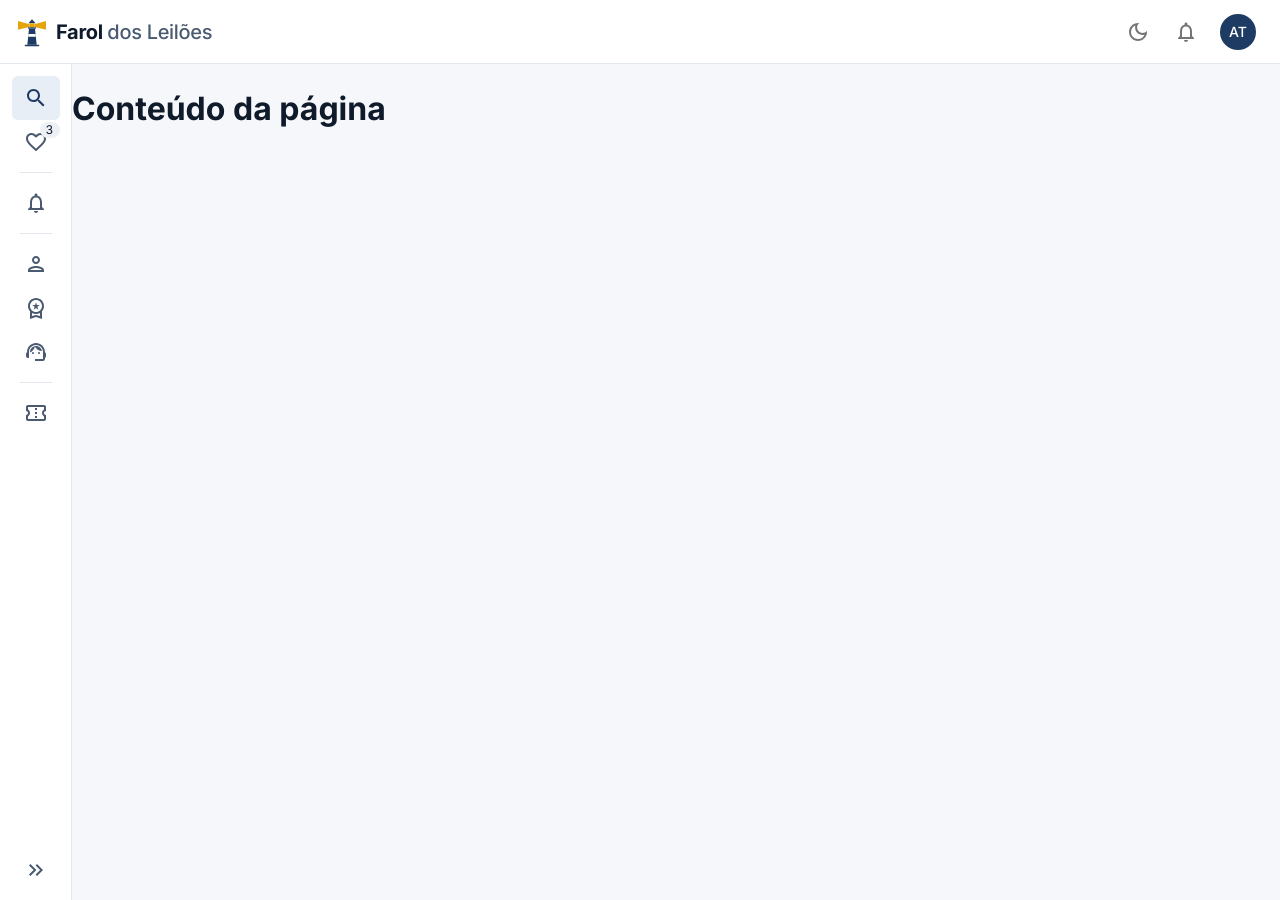
Test: AppShell — rail (md–lg) › shows icons named by aria-label, with no group labels, and a tooltip on hover
This screenshot has width=1280, height=900.
Hover over the link named "Favoritos, 3".
mouse_move(42, 138)  # box [24, 122, 60, 154]
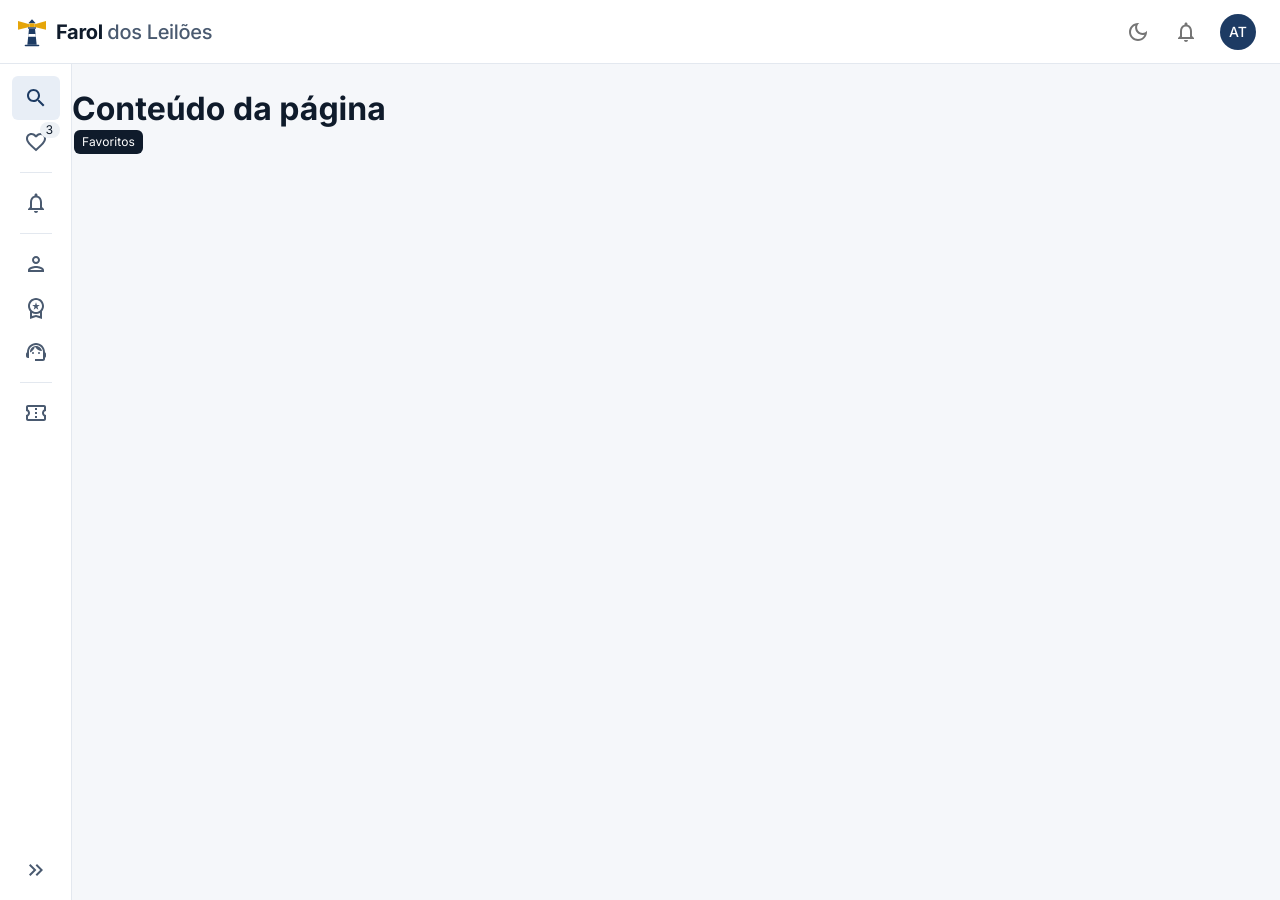
Result: the tooltip reads "Favoritos" at [82, 134, 135, 149]
